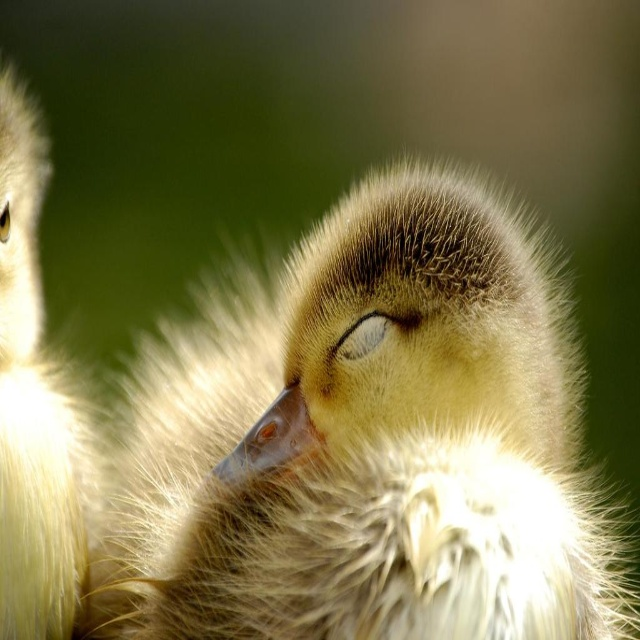Goose: (57, 98, 640, 640), (0, 77, 89, 637)
